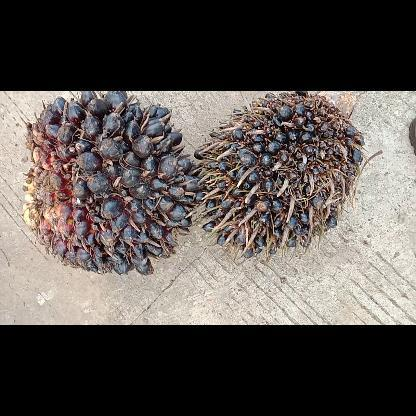TBS mentah: (20, 91, 198, 275), (192, 91, 366, 263)
